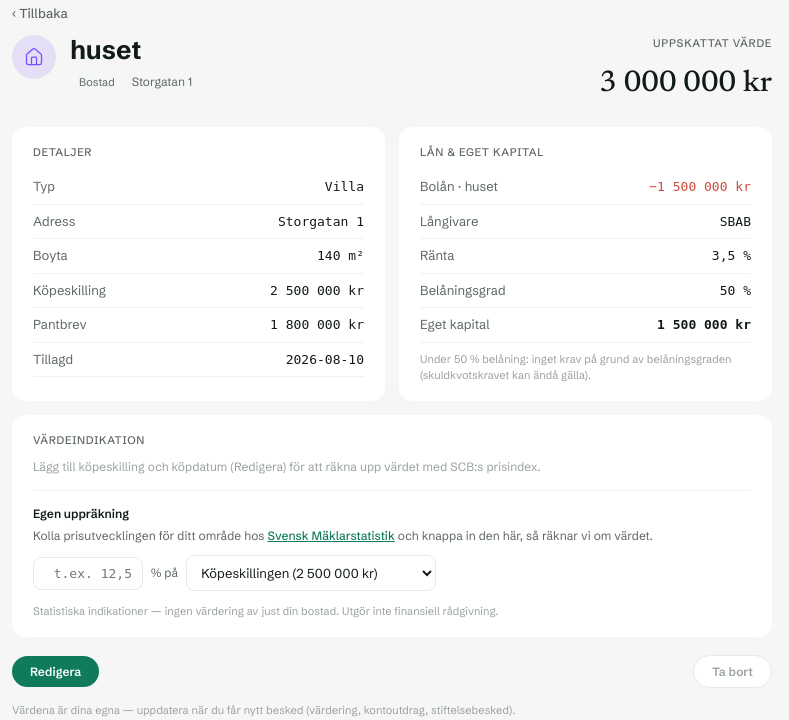
ManualAssetView › lets the user edit value and metadata and saves through the proxy
Click the button "Redigera": point(56, 671) [12,656,99,686]
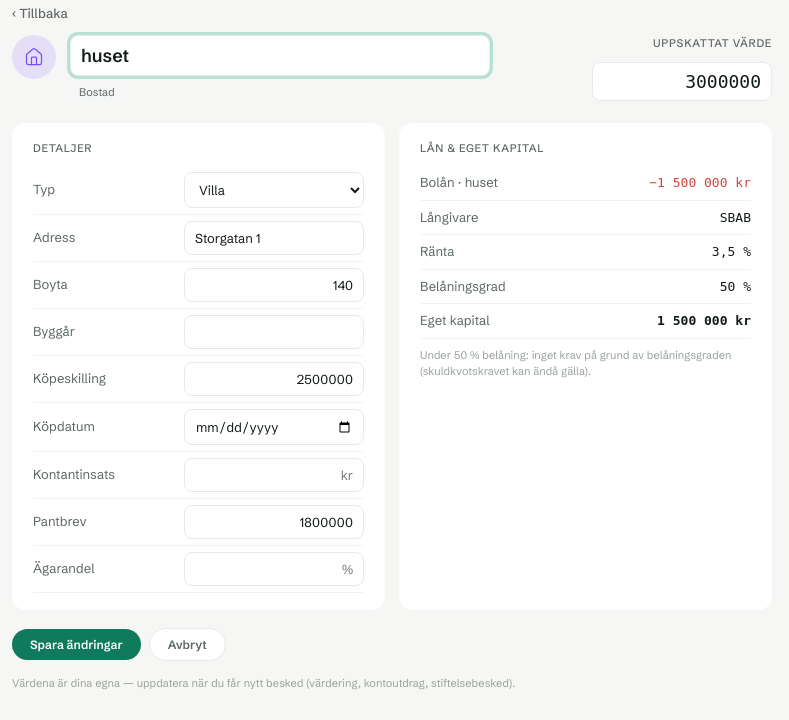
Replace the text in the field showing "3000000" below "Uppskattat värde" with "3 200 000": point(682, 81) [592,62,772,100]
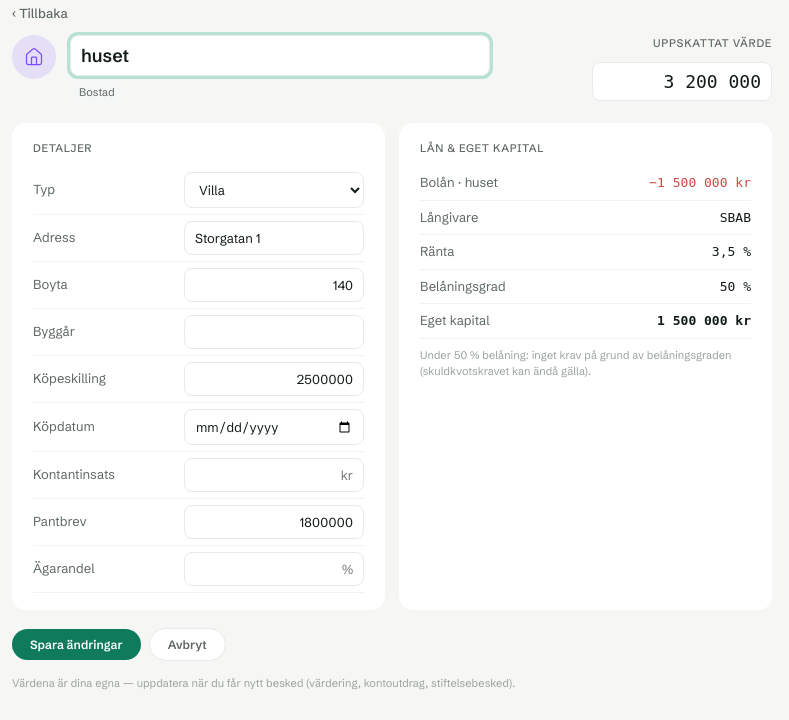
Replace the text in the field named "Boyta" with "145": point(274, 285) [184,268,364,302]
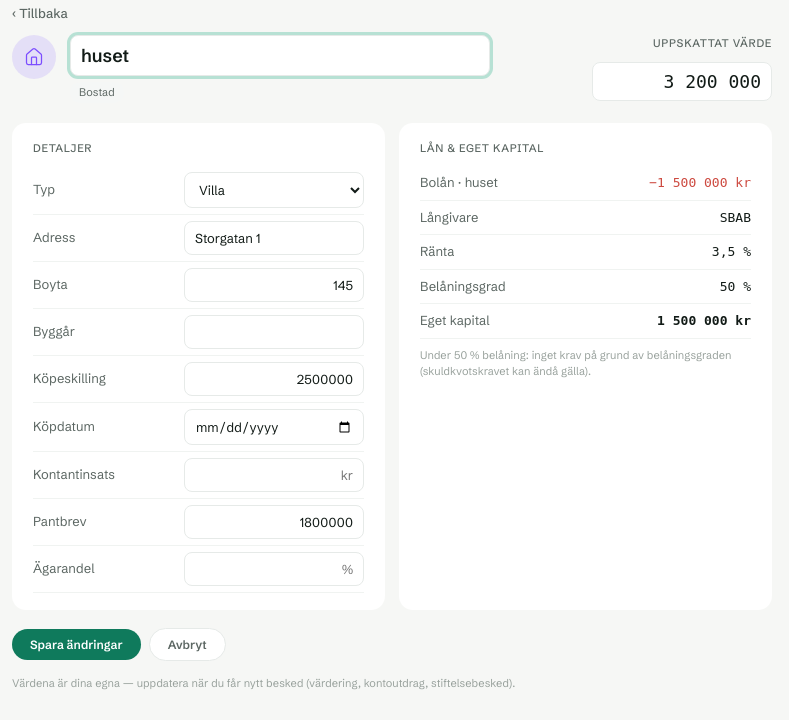
Click the button "Spara ändringar": point(76, 644) [12,629,141,660]
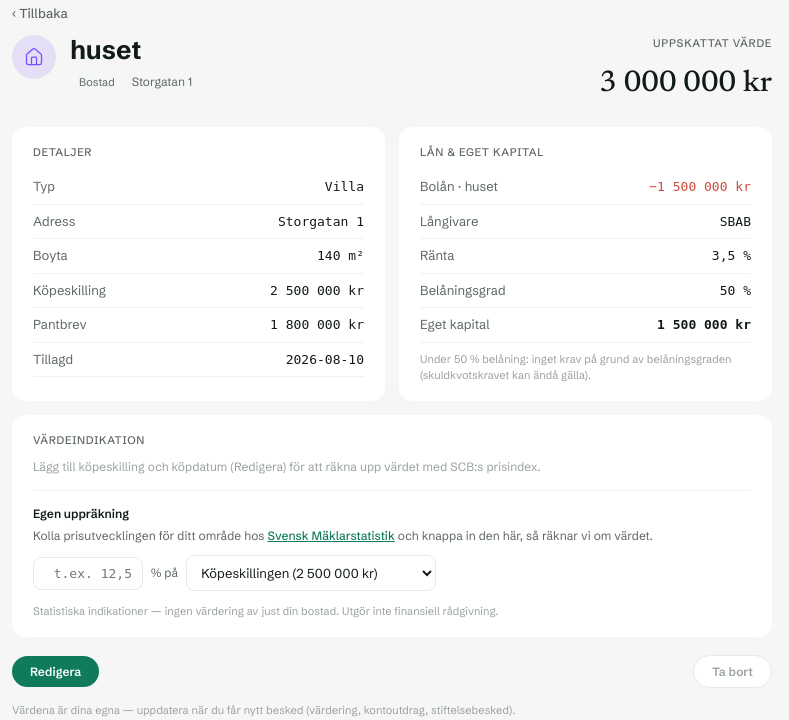
Expected: the text "Storgatan 1" in the row of "3 000 000 kr" is shown, [132,74,192,89]
